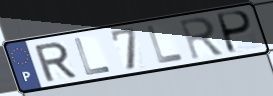7: (108, 26, 139, 71)
L: (145, 24, 186, 66), (72, 36, 113, 77)
P: (216, 9, 255, 56)
R: (177, 15, 226, 62), (32, 40, 79, 84)
